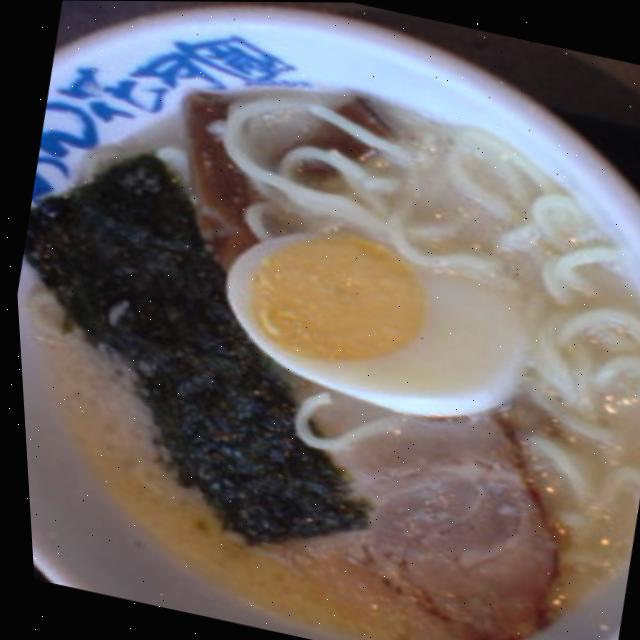面条主食: (0, 0, 640, 585)
